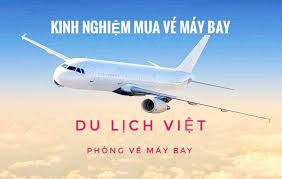maybay_dansu: (23, 37, 270, 123)
